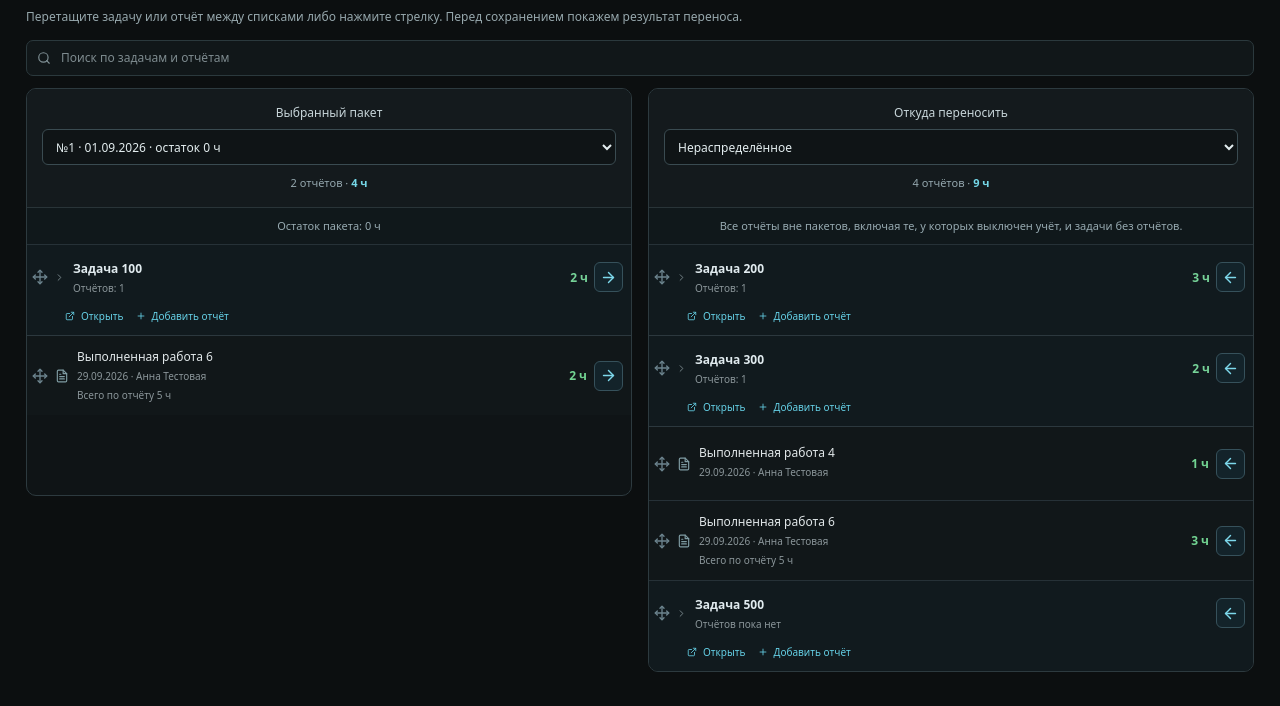
Test: two-list allocation workspace › previews a report move and requires explicit confirmation with the returned fingerprint
(page scrolled)
Click the button named "Перенести отчёт: Выполненная работа 6 в выбранный пакет" at (1230, 541), box [1216,526,1245,556]
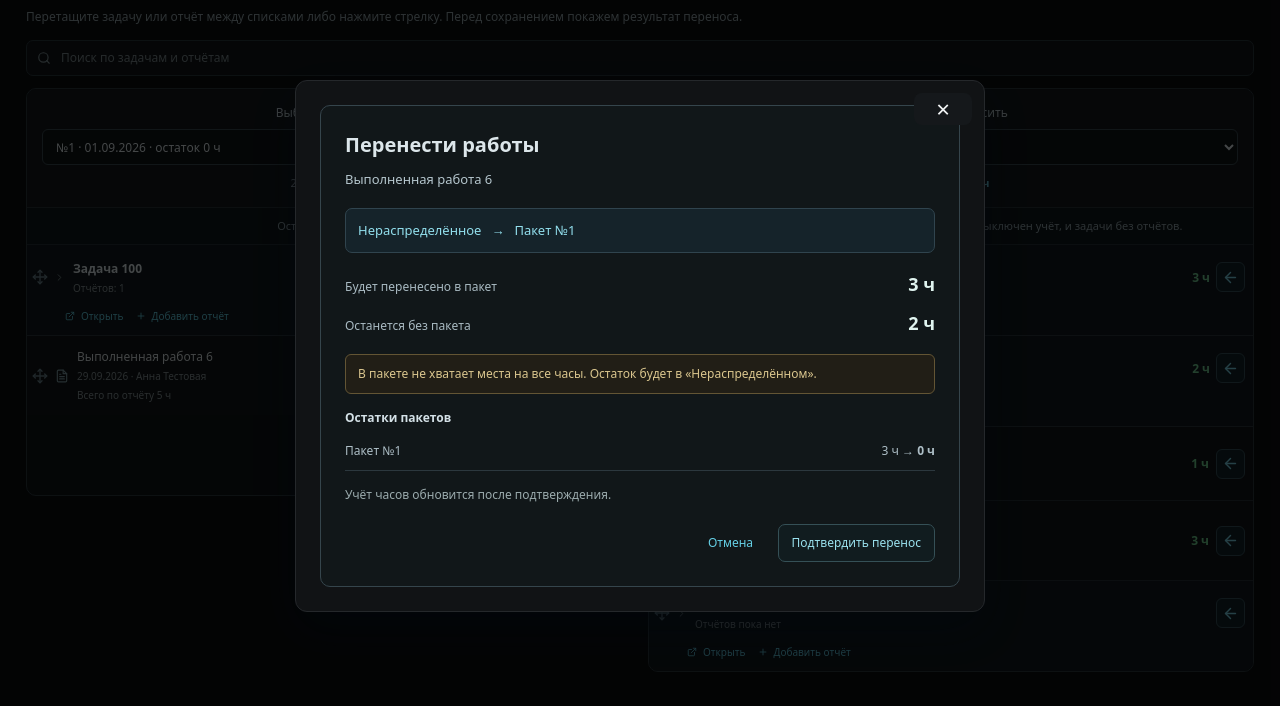
Result: the text "Останется без пакета" is shown at [345,317,471,335]
Result: the text "2 ч" is shown at [908,310,935,337]
Click the button "Подтвердить перенос" at (856, 543), box [778,524,935,562]
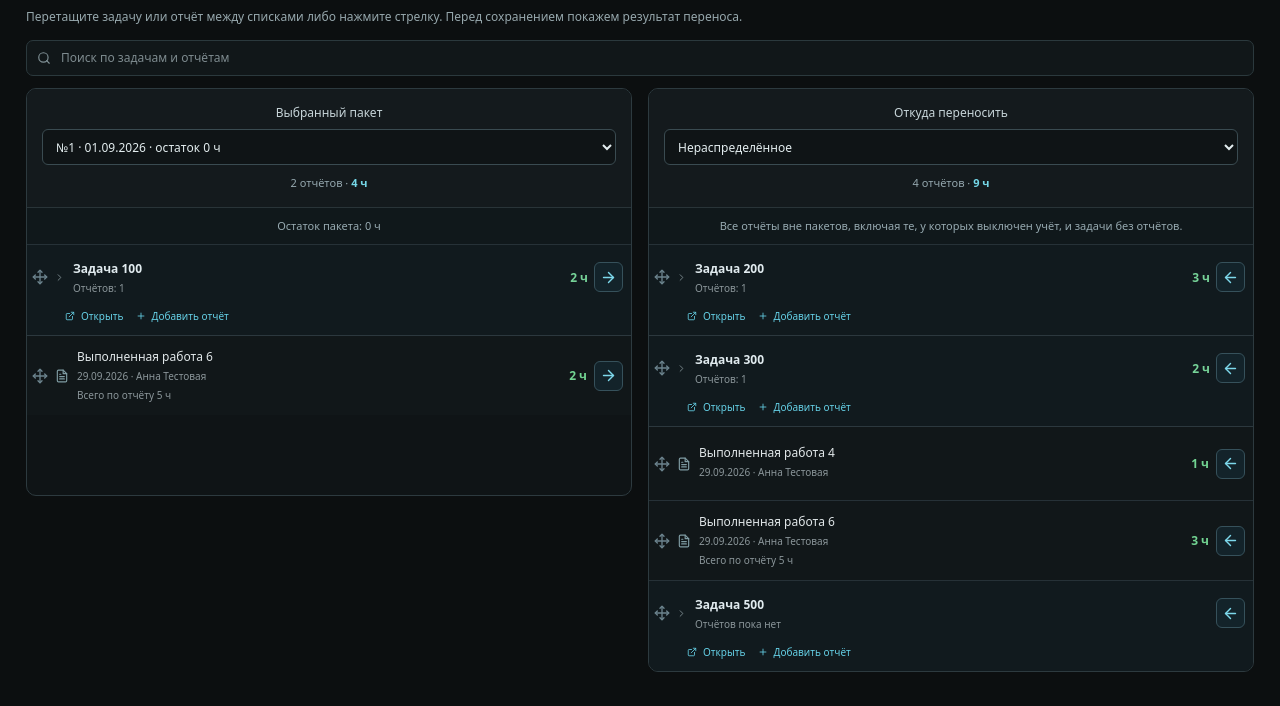
Result: the dialog is gone
